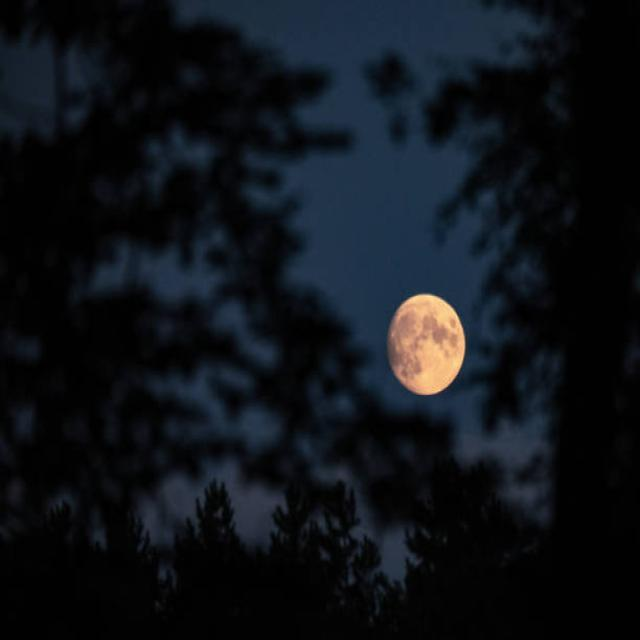moon: (384, 292, 467, 395)
